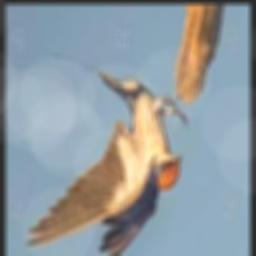Swallow: (22, 54, 188, 256)
